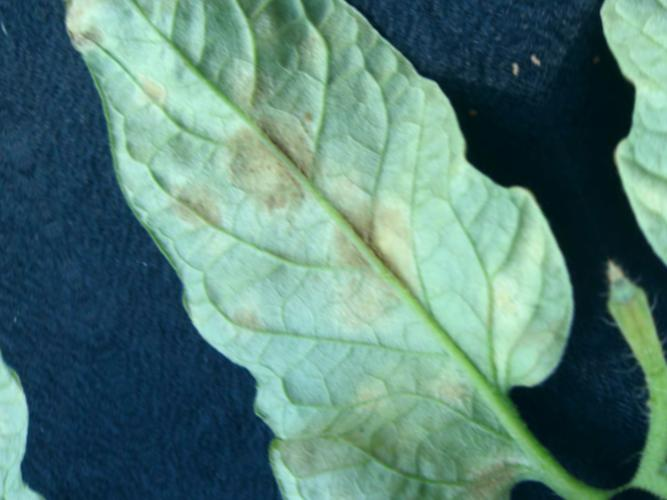Tomato mold leaf: (32, 0, 665, 500)
